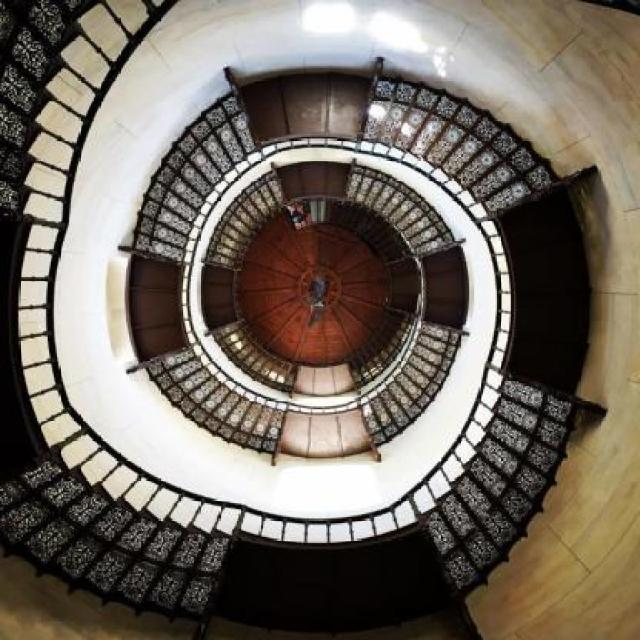stair: (0, 0, 580, 623)
